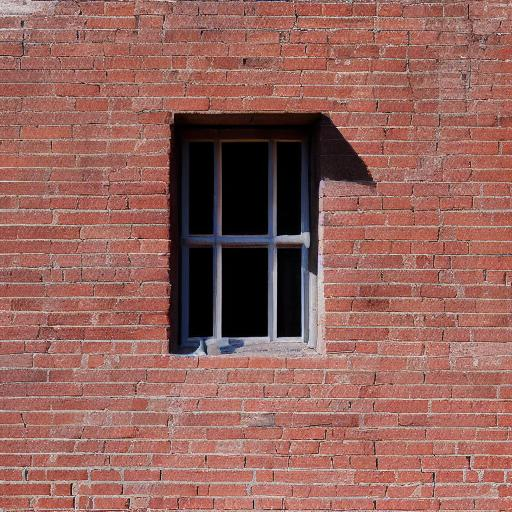Window: (167, 108, 329, 362)
